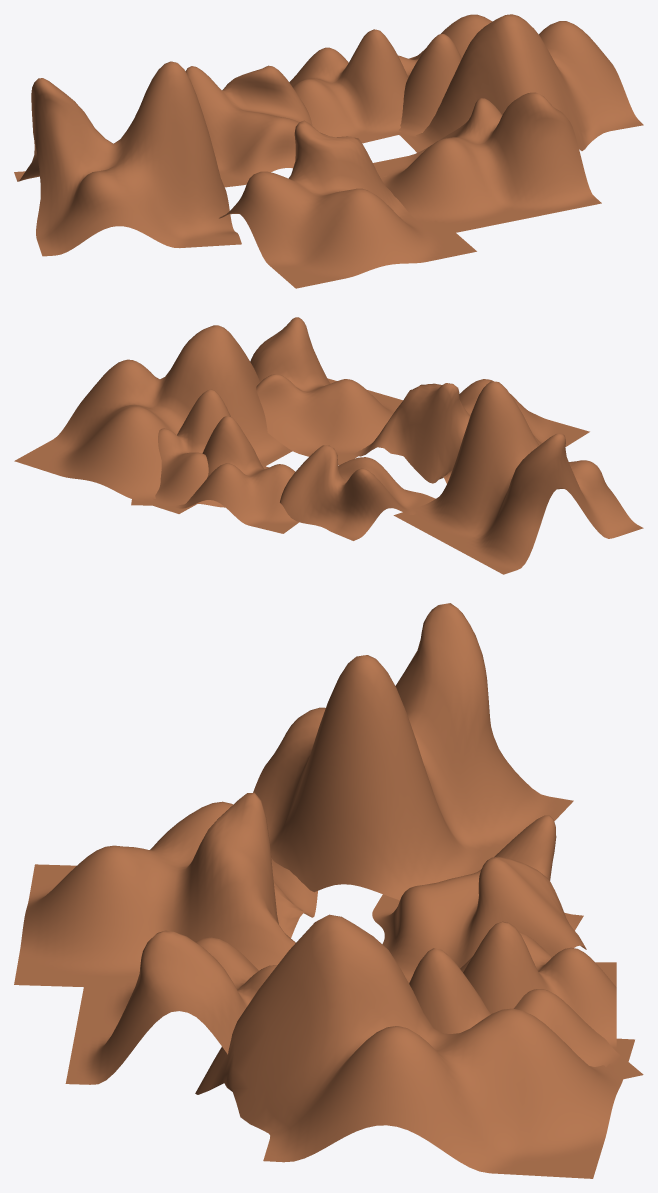
File: mountain.glb
3 views of the same model, one above another, from view 1: azimuth 30°, elevation 25°; view 2: azimuth 150°, elevation 25°; view 3: azimuth 270°, elevation 25° (orthographic). The views are drawn at different scales.
Visible parts, largest first — view 1: Mountain; view 2: Mountain; view 3: Mountain.
Boxes of the visible parts, x1,y1,x2,y2 form: Mountain: [14, 14, 643, 288]; Mountain: [14, 317, 643, 574]; Mountain: [14, 603, 643, 1178].
Size of the model in its own units: 206 by 51.26 by 130.
